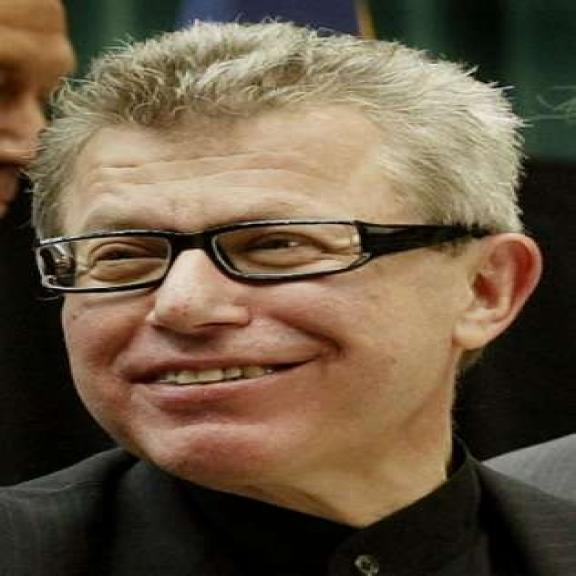face: (66, 111, 552, 486)
